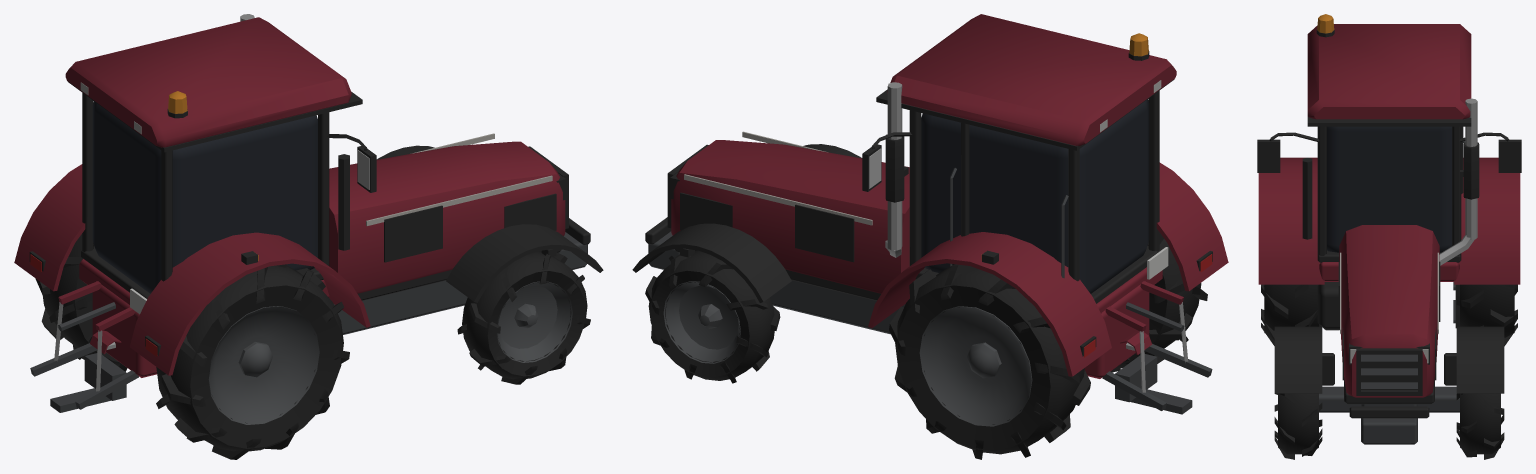
Rendered from SM_Prop_farm_tractor_utility_1_LOD1.glb.
3 views of the same model, side by side, from view 1: azimuth 30°, elevation 25°; view 2: azimuth 150°, elevation 25°; view 3: azimuth 270°, elevation 25° (orthographic). The views are drawn at different scales.
Visible parts, largest first — view 1: SM_Prop_farm_tractor_utility_1_LOD1; view 2: SM_Prop_farm_tractor_utility_1_LOD1; view 3: SM_Prop_farm_tractor_utility_1_LOD1.
Part boxes in pixels (left/top/right/bottom): SM_Prop_farm_tractor_utility_1_LOD1: left=14, top=14, right=603, bottom=459; SM_Prop_farm_tractor_utility_1_LOD1: left=632, top=14, right=1228, bottom=459; SM_Prop_farm_tractor_utility_1_LOD1: left=1257, top=14, right=1521, bottom=459.
Bounding box in the file's own units: 4.47 × 2.94 × 2.32.
